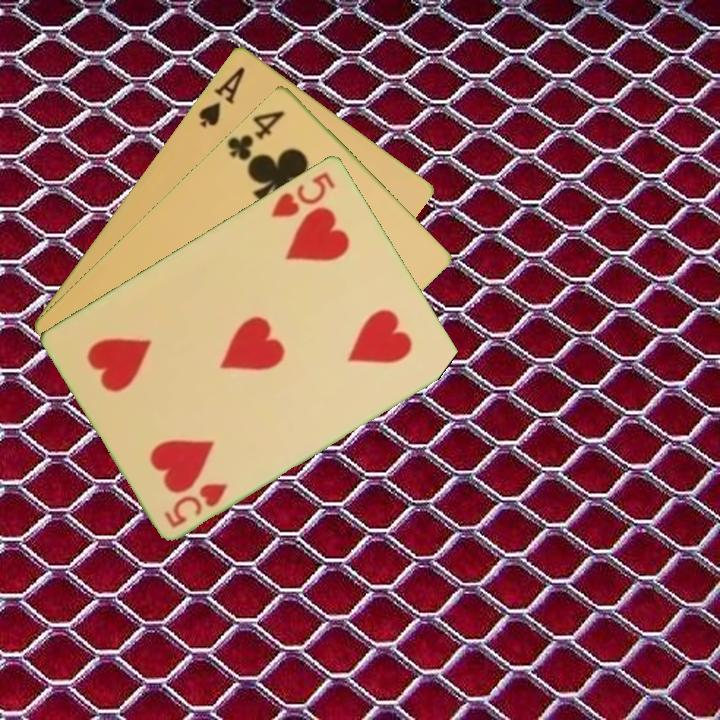4c: (223, 106, 288, 163)
5h: (267, 167, 338, 220), (160, 479, 231, 531)
As: (194, 62, 248, 130)
